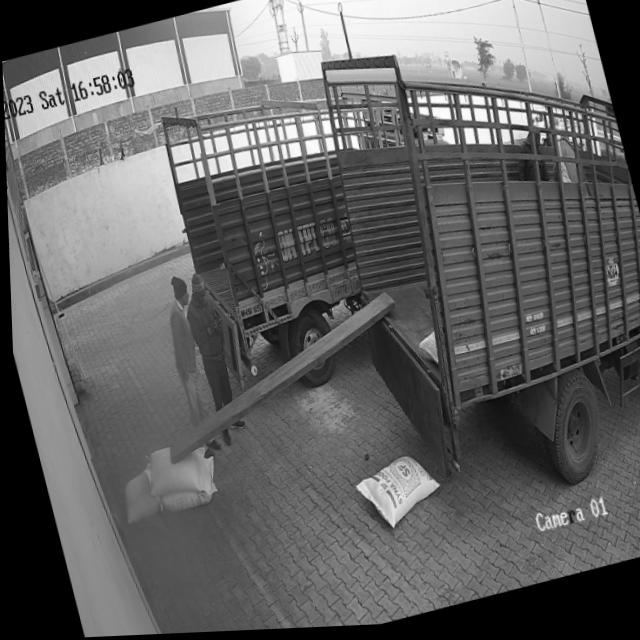sack: (347, 453, 441, 538), (136, 440, 210, 504), (148, 456, 219, 514), (113, 471, 158, 525)
